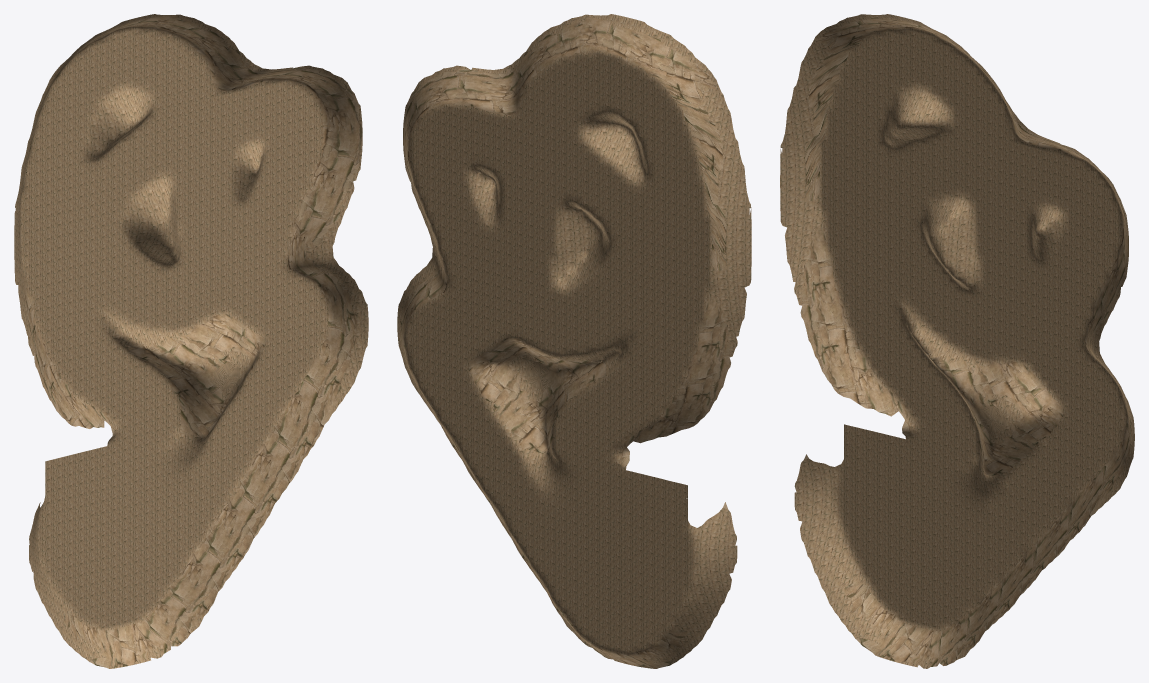
Rendered from Ground.fbx.
The picture shows the model from 3 angles, left to right: view 1: azimuth 30°, elevation 25°; view 2: azimuth 150°, elevation 25°; view 3: azimuth 330°, elevation 25°; orthographic projection.
Visible parts, largest first — view 1: Ground001; view 2: Ground001; view 3: Ground001.
Boxes of the visible parts, left/top/right/bottom form: Ground001: left=14, top=14, right=368, bottom=668; Ground001: left=397, top=14, right=751, bottom=668; Ground001: left=780, top=14, right=1134, bottom=668.
Bounding box in the file's own units: 6465 × 11273 × 540.
1 material, 1 textured.
